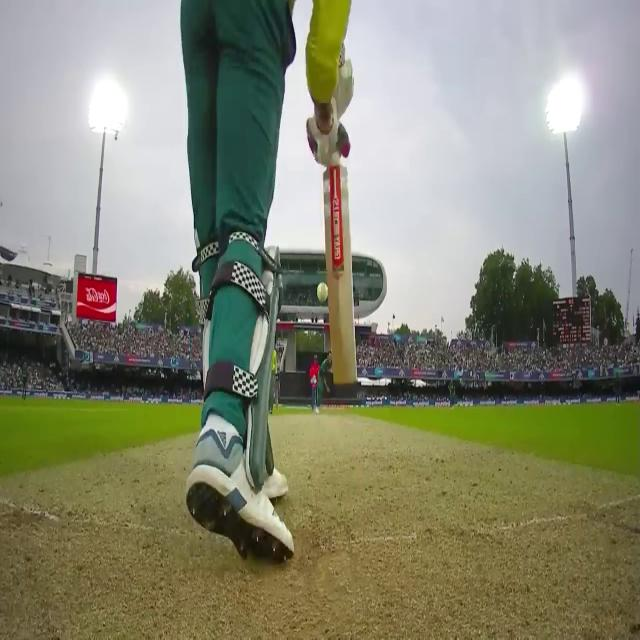ball: (316, 276, 329, 305)
